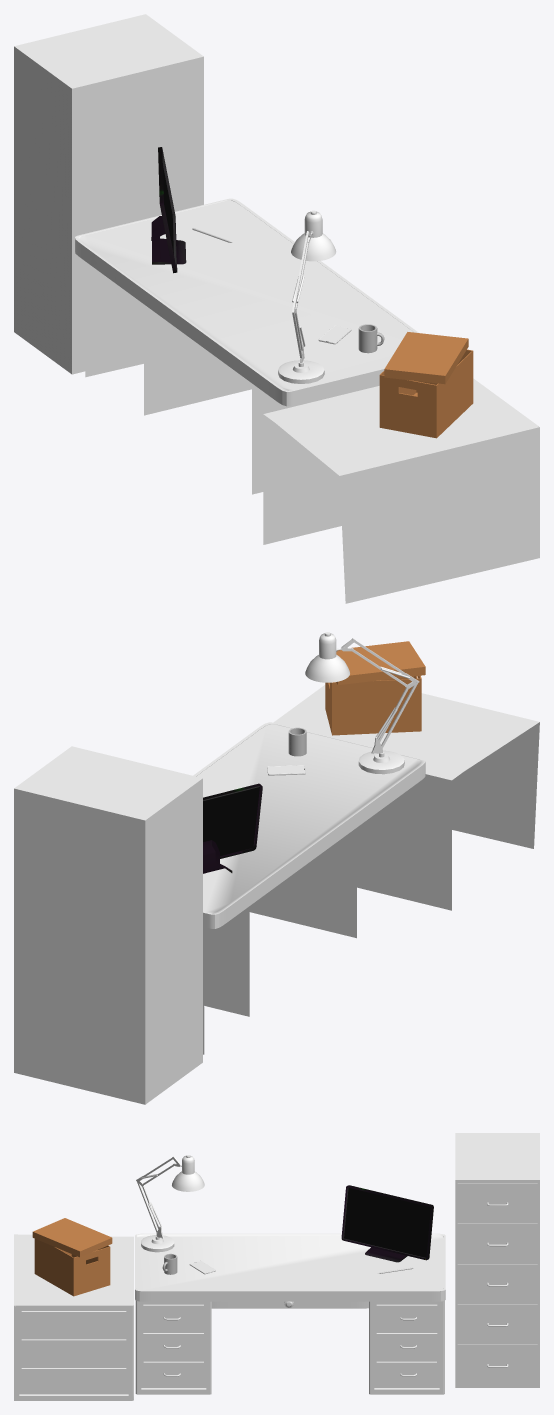
File: office.glb
The picture shows the model from 3 angles, top to bottom: view 1: azimuth 30°, elevation 25°; view 2: azimuth 150°, elevation 25°; view 3: azimuth 270°, elevation 25°; orthographic projection. The views are drawn at different scales.
Visible parts, largest first — view 1: FileStorage_Cube.001, desktop.2_Baked, Plane, desktop.2_Baked.001, Box02_Cube.001, Box02Cap_Cube.001, TableLamp_Cylinder.001, Monitor COMBINED_Baked; view 2: FileStorage_Cube.001, desktop.2_Baked, Plane, desktop.2_Baked.001, Box02_Cube.001, Monitor COMBINED_Baked, TableLamp_Cylinder.001, Box02Cap_Cube.001; view 3: FileStorage_Cube.001, Plane, desktop.2_Baked, desktop.2_Baked.001, Monitor COMBINED_Baked, Box02_Cube.001, TableLamp_Cylinder.001, Box02Cap_Cube.001.
Boxes of the visible parts, x1=… form: FileStorage_Cube.001: x1=14, y1=14, x2=203, y2=374; desktop.2_Baked: x1=263, y1=378, x2=539, y2=603; Plane: x1=75, y1=198, x2=418, y2=406; desktop.2_Baked.001: x1=85, y1=262, x2=379, y2=494; Box02_Cube.001: x1=379, y1=349, x2=473, y2=438; Box02Cap_Cube.001: x1=384, y1=332, x2=468, y2=384; TableLamp_Cylinder.001: x1=278, y1=210, x2=336, y2=383; Monitor COMBINED_Baked: x1=151, y1=147, x2=186, y2=273; FileStorage_Cube.001: x1=14, y1=746, x2=202, y2=1104; desktop.2_Baked: x1=273, y1=685, x2=539, y2=910; Plane: x1=193, y1=722, x2=425, y2=928; desktop.2_Baked.001: x1=203, y1=785, x2=415, y2=1054; Box02_Cube.001: x1=325, y1=675, x2=421, y2=735; Monitor COMBINED_Baked: x1=203, y1=783, x2=262, y2=873; TableLamp_Cylinder.001: x1=305, y1=632, x2=419, y2=774; Box02Cap_Cube.001: x1=336, y1=641, x2=425, y2=685; FileStorage_Cube.001: x1=455, y1=1133, x2=539, y2=1387; Plane: x1=135, y1=1233, x2=445, y2=1308; desktop.2_Baked: x1=14, y1=1234, x2=133, y2=1400; desktop.2_Baked.001: x1=135, y1=1301, x2=444, y2=1394; Monitor COMBINED_Baked: x1=341, y1=1185, x2=433, y2=1262; Box02_Cube.001: x1=34, y1=1239, x2=110, y2=1296; TableLamp_Cylinder.001: x1=136, y1=1155, x2=204, y2=1252; Box02Cap_Cube.001: x1=32, y1=1218, x2=112, y2=1257.
Bounding box in the file's own units: 1.08 × 1.49 × 3.39.
11 materials, 2 textured.
